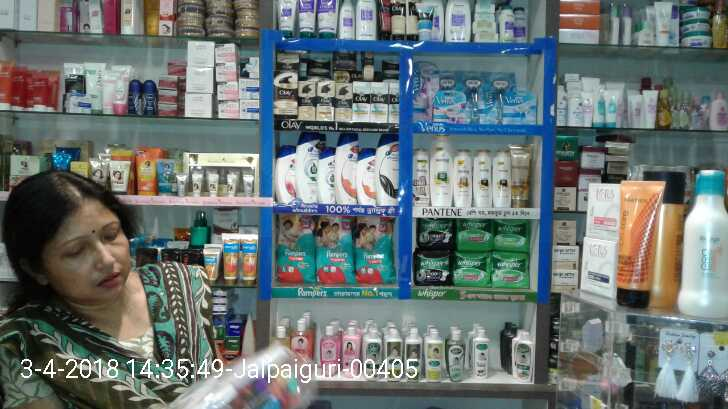venus: (414, 61, 434, 122), (503, 90, 537, 124), (467, 71, 487, 124), (433, 90, 466, 122), (487, 72, 503, 124), (436, 70, 464, 88)
